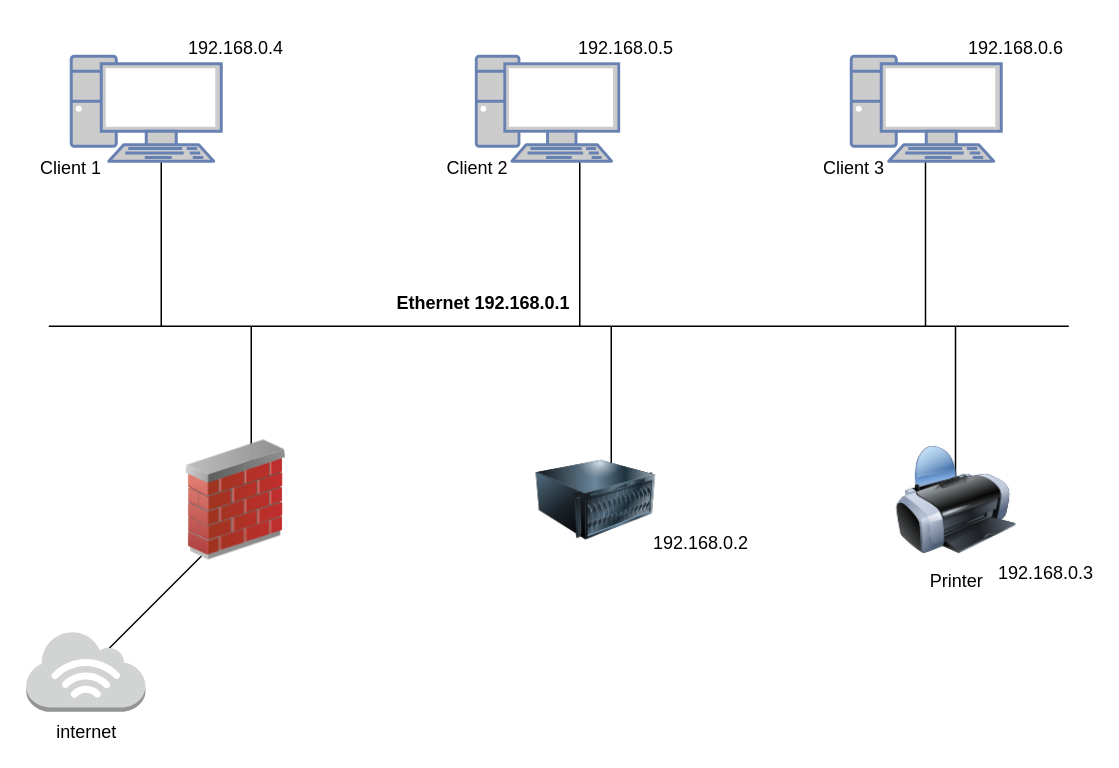
Image size: 1119x768. Some labels were removed from this diagram. The shapes that lost their labels are listed below. From the top down, each one's box as (x1, y1, x2, y2) in pixels, then its label:
(176, 440, 296, 560): Firewall
(536, 440, 656, 560): Server
